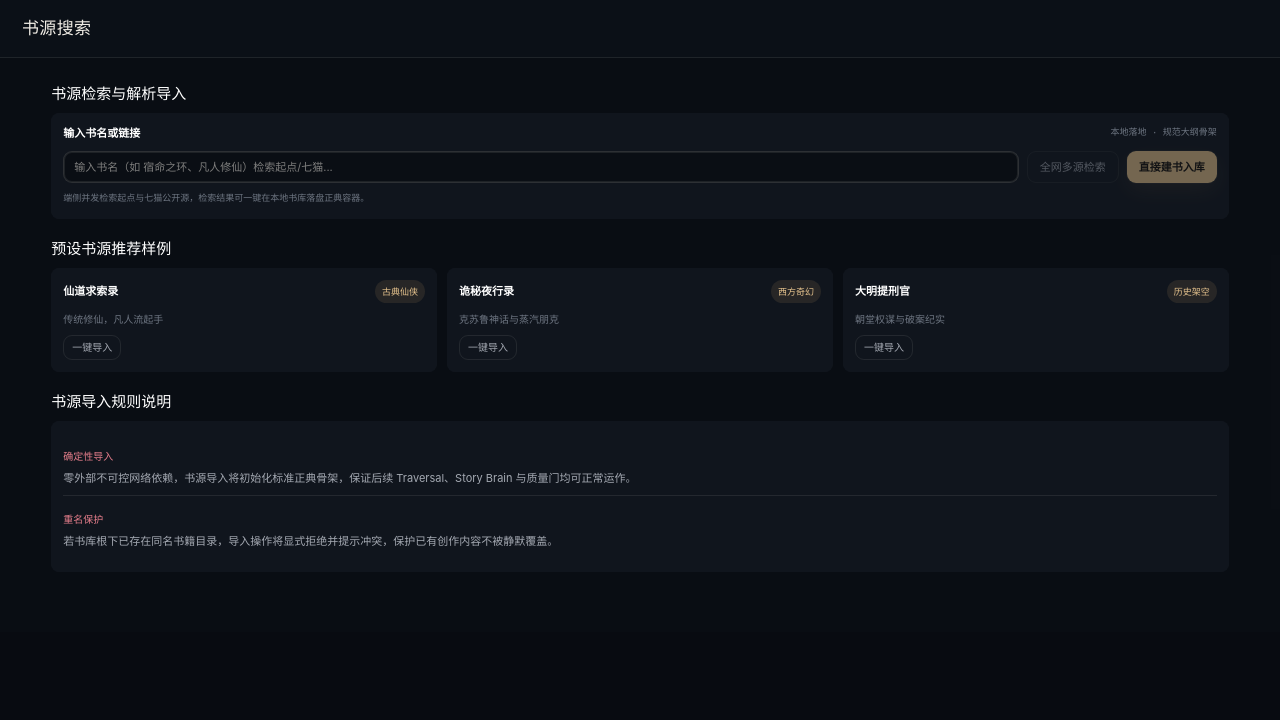
Test: BookSourceView（书源搜索与导入） › 手动输入书名导入并触发切书与成功横幅
Type "凡人问仙" into the field named "书源检索输入" at (541, 167), box [63,150,1019,183]
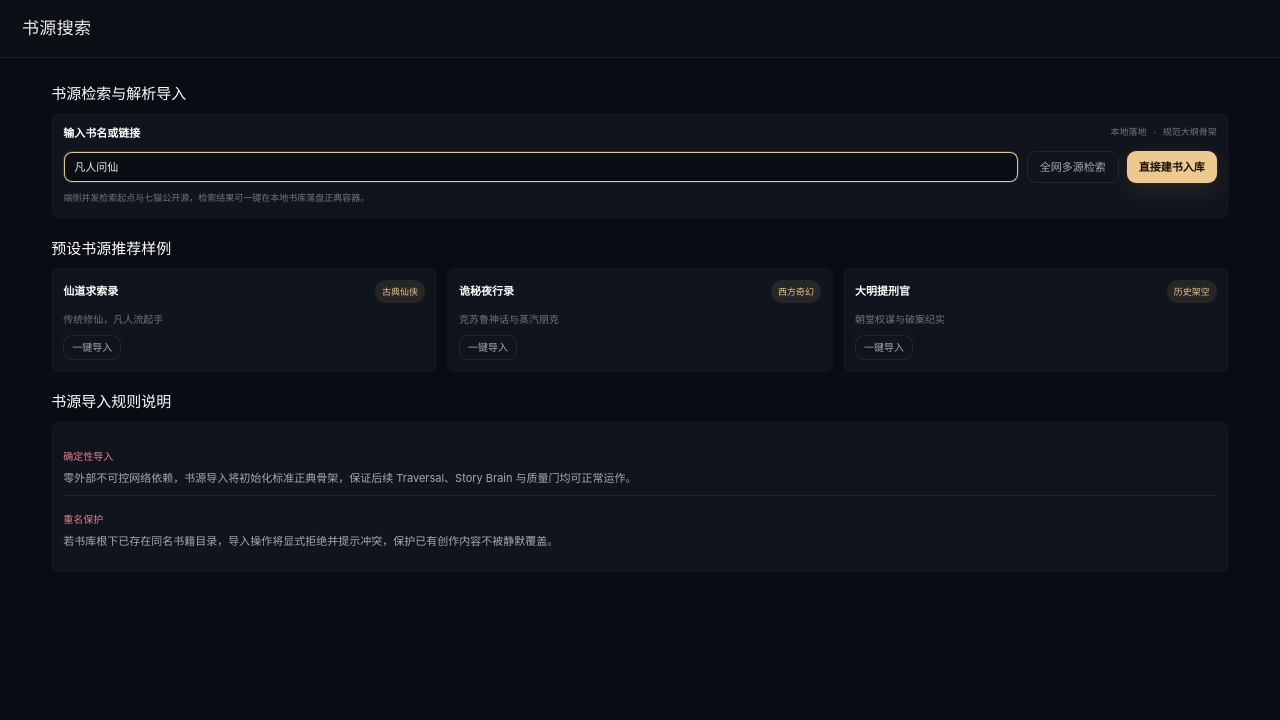
Click the button "直接建书入库" at (1172, 167), box [1127,150,1217,183]
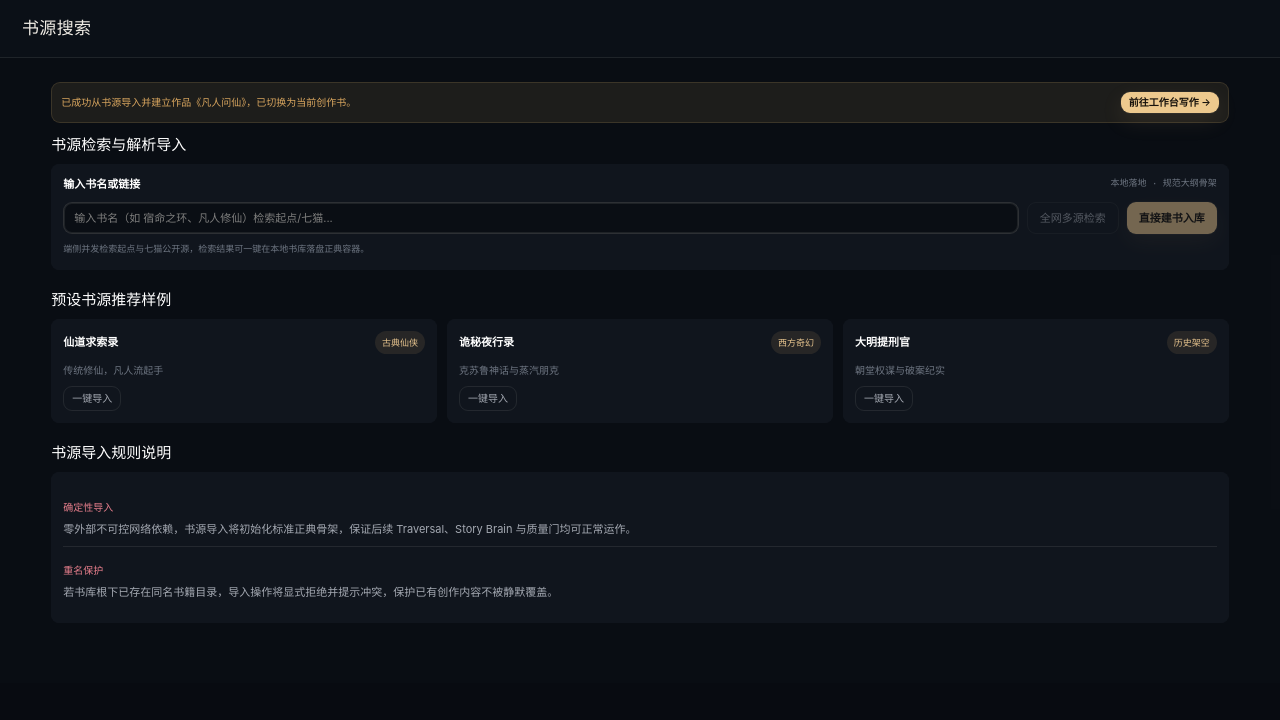
Now the element with test id "book-source-success" shows "《凡人问仙》", box [51,82,1229,123]
Now the field named "书源检索输入" is empty, box [63,202,1019,234]
